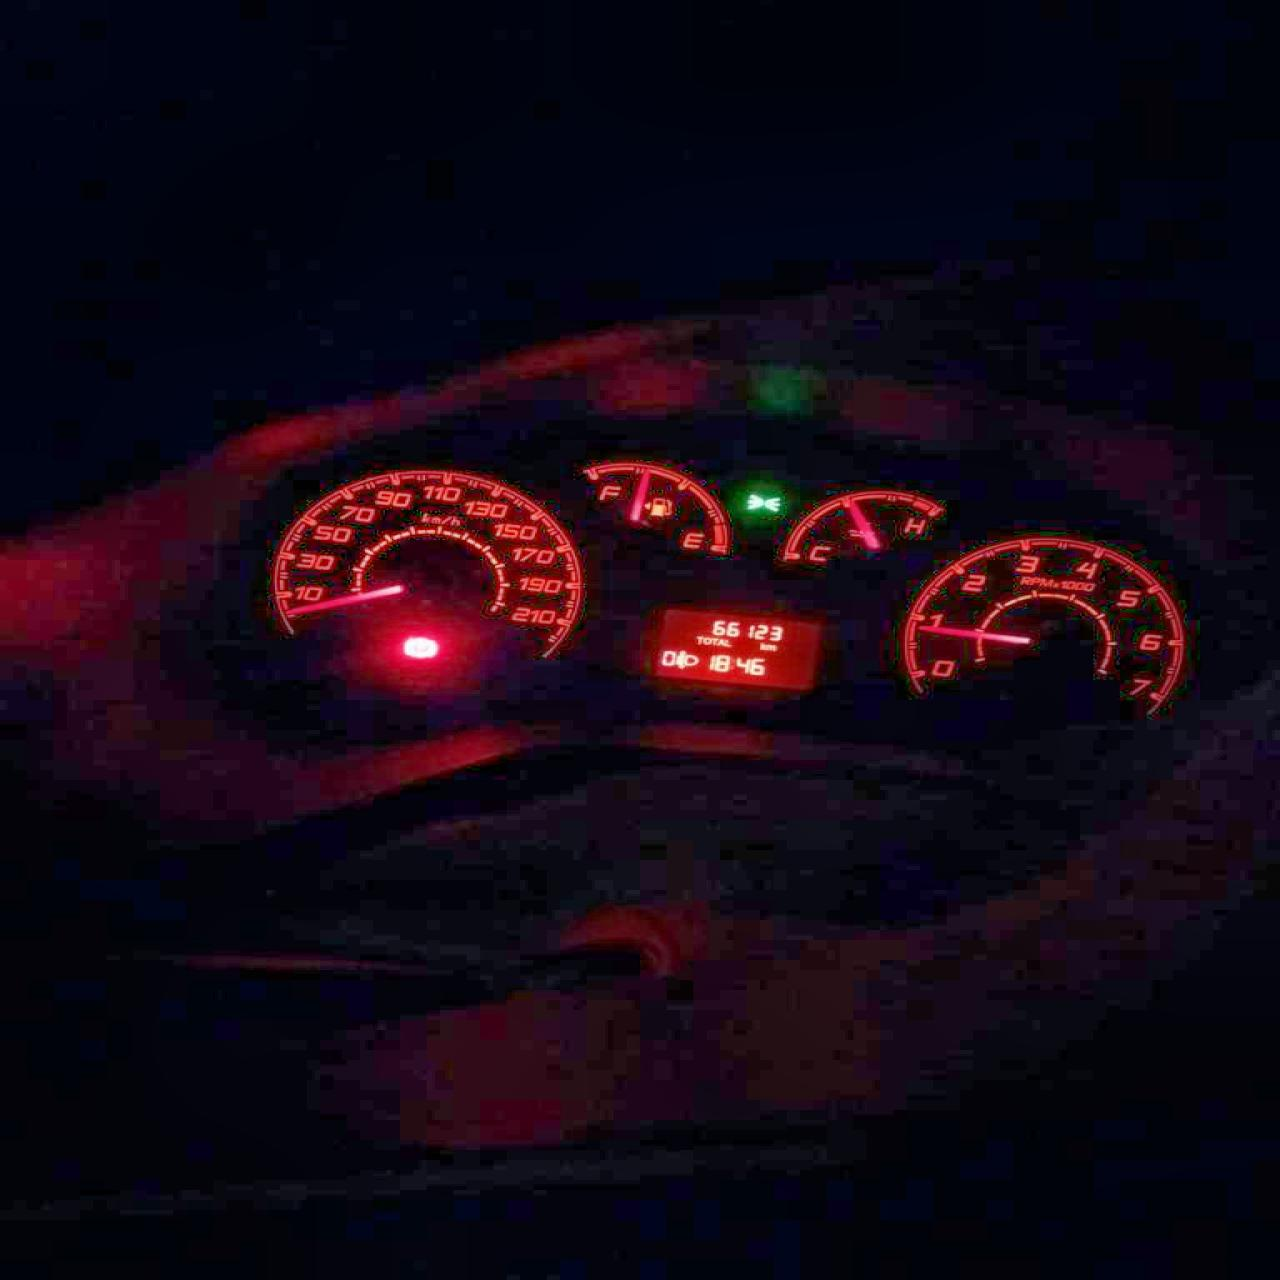0: (659, 647, 675, 667)
1: (707, 653, 713, 672), (747, 624, 754, 638)
2: (754, 624, 769, 639)
3: (769, 625, 783, 640)
4: (735, 655, 750, 674)
6: (748, 656, 767, 675), (724, 619, 738, 636), (712, 620, 723, 635)
8: (714, 653, 729, 672)
X: (702, 635, 710, 645), (767, 641, 775, 651), (730, 656, 735, 672), (695, 635, 702, 644), (758, 641, 764, 651), (716, 638, 723, 645), (723, 639, 730, 646), (710, 638, 716, 645)
odometer: (648, 605, 824, 692)
